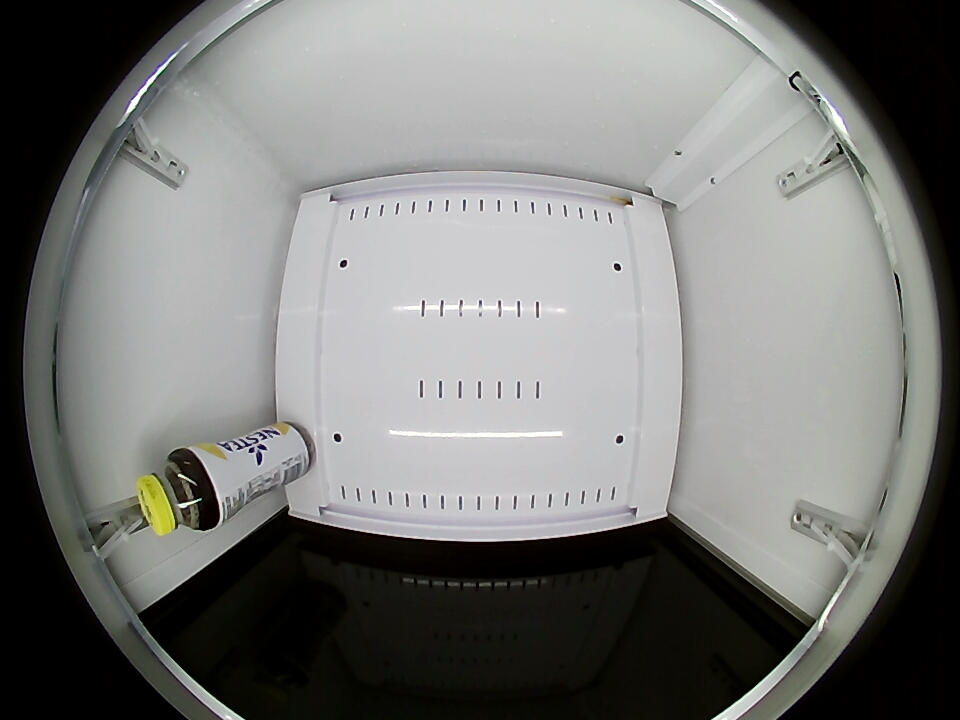chacui: (137, 447, 220, 536)
